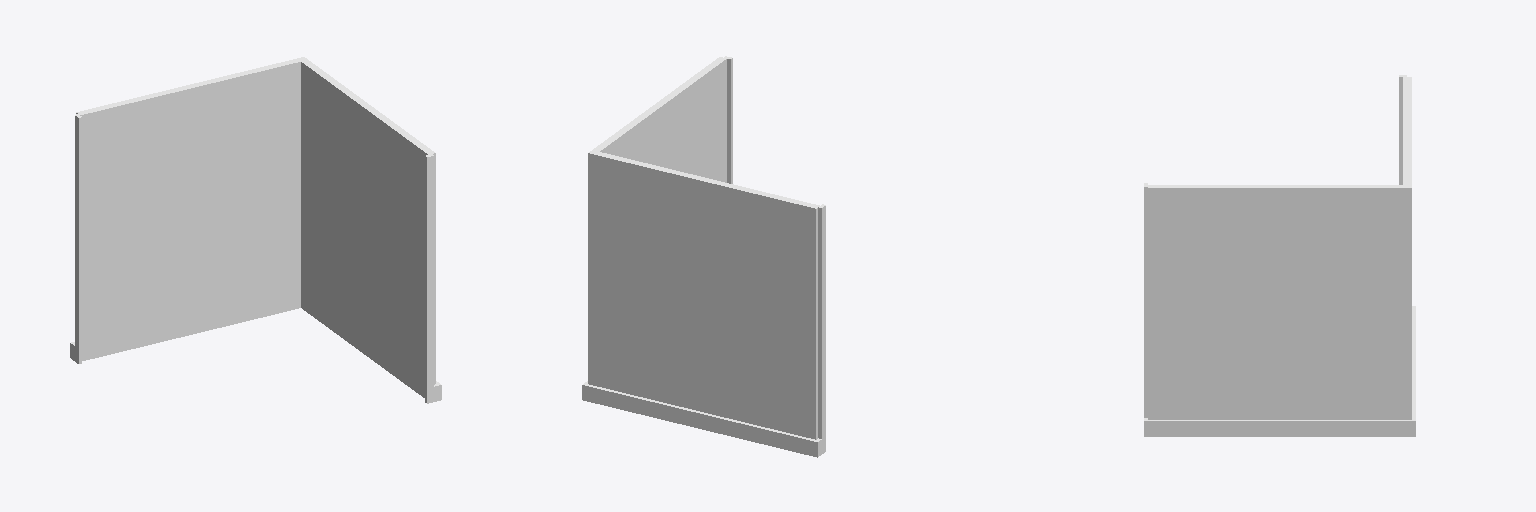
Rendered from modern_glass_wall_b_corner.obj.
The picture shows the model from 3 angles: view 1: azimuth 30°, elevation 25°; view 2: azimuth 150°, elevation 25°; view 3: azimuth 270°, elevation 25°; orthographic projection.
Size of the model in its own units: 64 by 64 by 64.